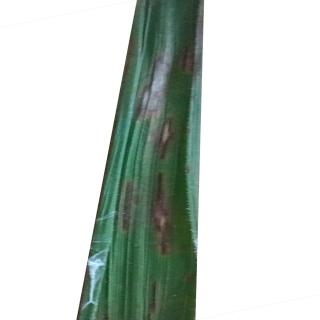Hawar-Daun: (124, 0, 196, 258)
